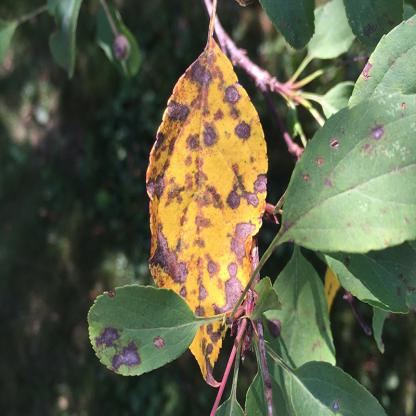apple scab leaf: (151, 35, 256, 390), (268, 110, 415, 257), (86, 278, 194, 385)
